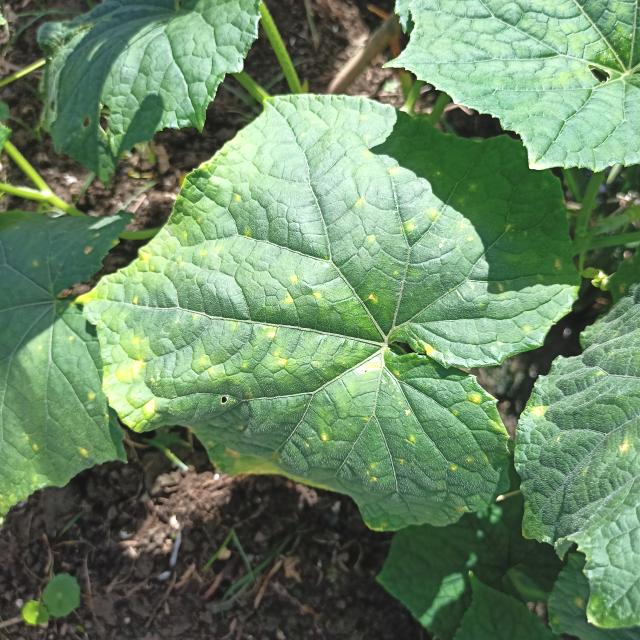disease_cucumber: (107, 240, 238, 425), (257, 267, 323, 372), (443, 388, 495, 478), (399, 204, 477, 261)
